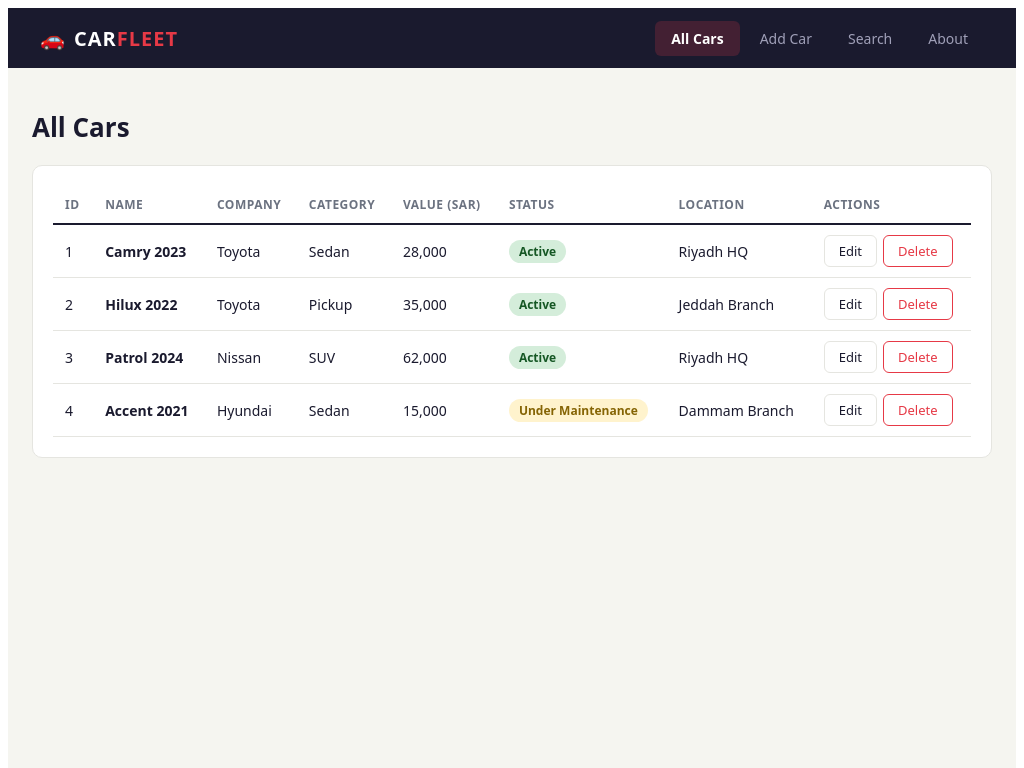
Edit Car › opens edit form when Edit is clicked
Check: the text "Camry 2023" is shown, box left=93, top=224, right=205, bottom=278
Click the button "Edit" in the row of "Camry 2023" at (850, 251), box left=824, top=235, right=877, bottom=267
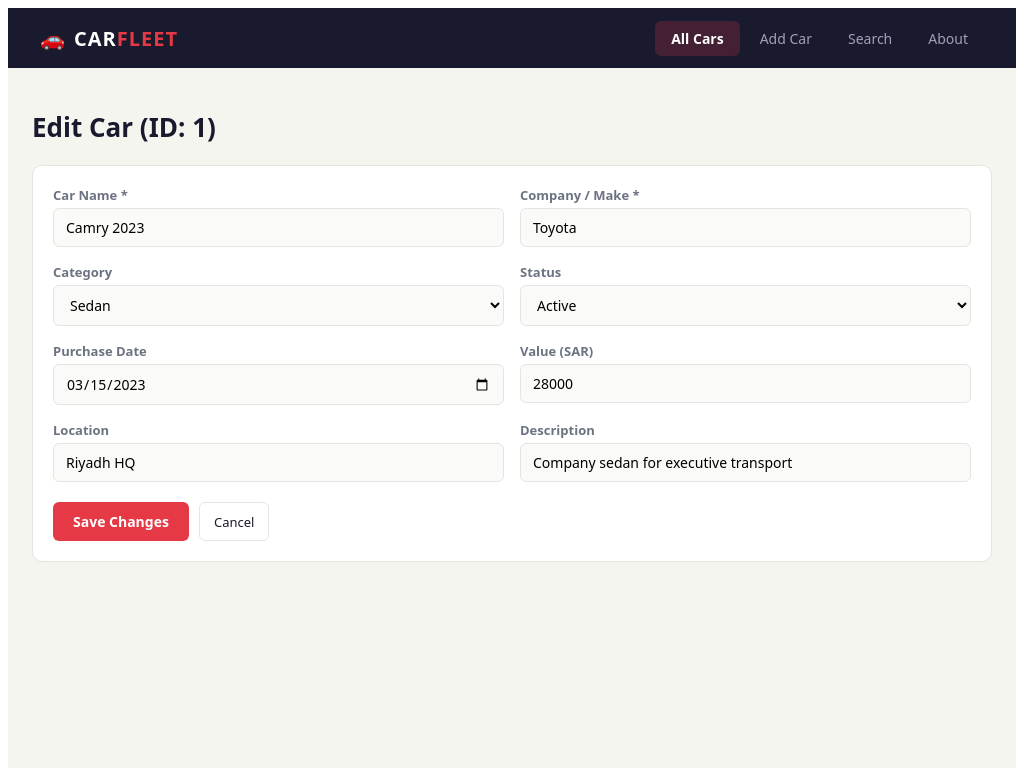
Check: the heading "Edit Car (ID: 1)" is shown, box left=32, top=109, right=216, bottom=145
Check: the button "Save Changes" is shown, box left=53, top=502, right=189, bottom=541
Check: the button "Cancel" is shown, box left=199, top=502, right=269, bottom=541
